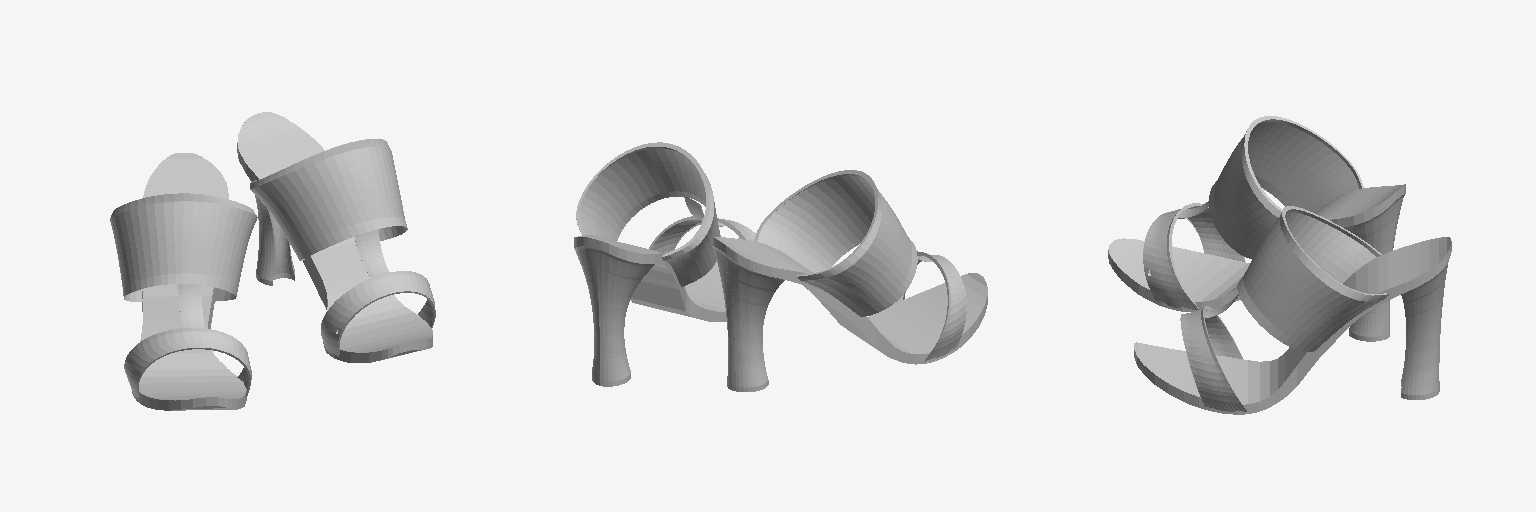
File: shoes.obj
3 renders of one model, left to right at view 1: azimuth 30°, elevation 25°; view 2: azimuth 150°, elevation 25°; view 3: azimuth 270°, elevation 25°, orthographic.
Visible parts, largest first — view 1: Group_010, Group_004, Group_002, Group_008, Group_003, Group_009, Group_001, Group_005, Group_011; view 2: Group_010, Group_004, Group_008, Group_001, Group_007, Group_002, Group_009, Group_003; view 3: Group_004, Group_010, Group_002, Group_008, Group_001, Group_009, Group_003, Group_007.
Boxes of the visible parts, x1=… form: Group_010: x1=110, y1=193, x2=257, y2=301; Group_004: x1=250, y1=139, x2=407, y2=260; Group_002: x1=237, y1=112, x2=432, y2=362; Group_008: x1=132, y1=153, x2=246, y2=410; Group_003: x1=321, y1=271, x2=435, y2=356; Group_009: x1=124, y1=328, x2=251, y2=399; Group_001: x1=249, y1=178, x2=294, y2=280; Group_005: x1=355, y1=229, x2=389, y2=277; Group_011: x1=177, y1=284, x2=204, y2=327; Group_010: x1=754, y1=170, x2=917, y2=316; Group_004: x1=576, y1=142, x2=720, y2=286; Group_008: x1=712, y1=237, x2=987, y2=364; Group_001: x1=574, y1=246, x2=654, y2=381; Group_007: x1=712, y1=246, x2=784, y2=387; Group_002: x1=574, y1=235, x2=739, y2=321; Group_009: x1=870, y1=251, x2=966, y2=361; Group_003: x1=649, y1=216, x2=755, y2=252; Group_004: x1=1237, y1=206, x2=1388, y2=351; Group_010: x1=1209, y1=116, x2=1363, y2=258; Group_002: x1=1134, y1=237, x2=1451, y2=414; Group_008: x1=1108, y1=184, x2=1405, y2=311; Group_001: x1=1401, y1=261, x2=1448, y2=394; Group_009: x1=1143, y1=203, x2=1245, y2=309; Group_003: x1=1180, y1=306, x2=1246, y2=411; Group_007: x1=1344, y1=194, x2=1404, y2=336.
Bounding box in the file's own units: 168 × 95.24 × 159.